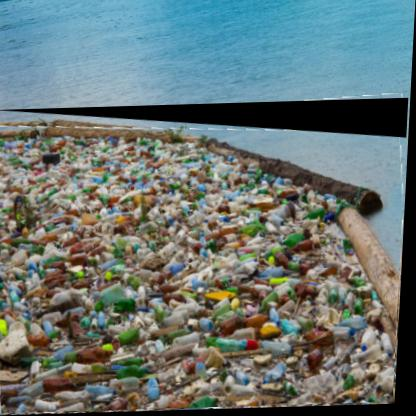Garbage: (1, 101, 412, 416)
